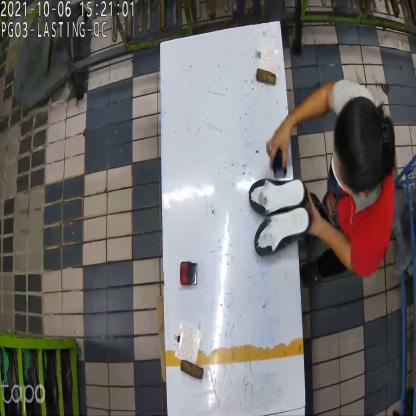shoes: (246, 178, 312, 260)
stamp: (268, 148, 288, 180), (179, 258, 197, 288)
